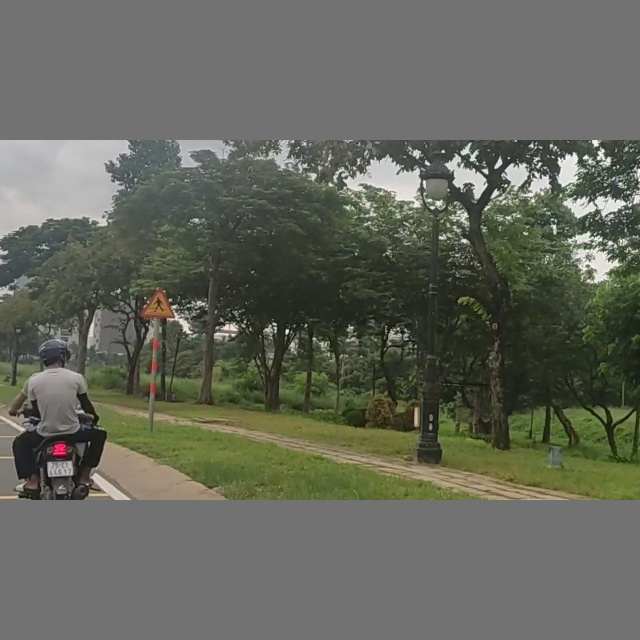W.224: (141, 287, 175, 319)
